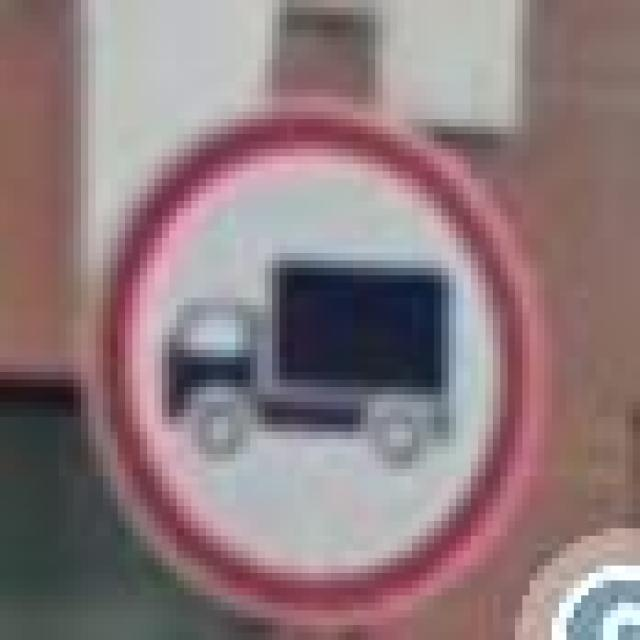traffic_sign: (81, 97, 552, 632)
